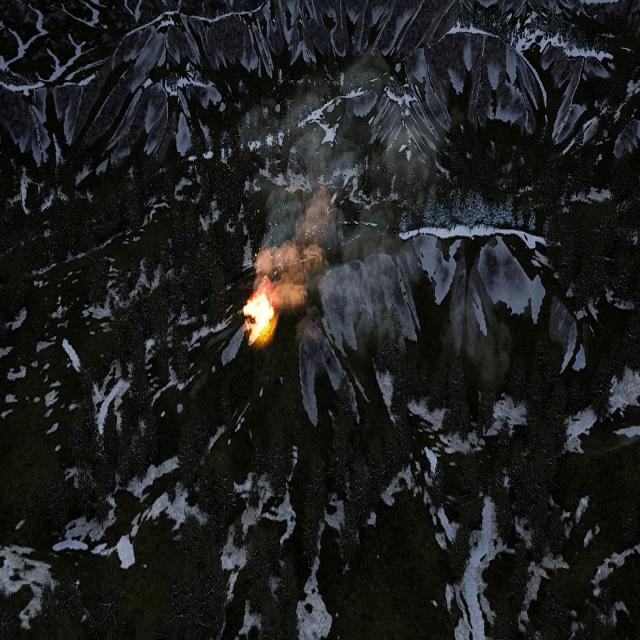fire: (243, 290, 276, 344)
smoke: (255, 80, 418, 359)
